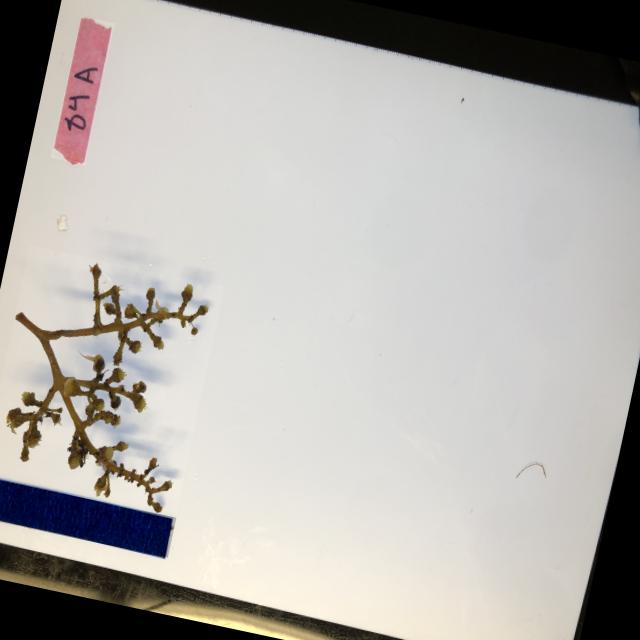index: (50, 15, 114, 164)
measure_label: (0, 472, 176, 556)
rachis_cluster: (0, 243, 224, 511)
